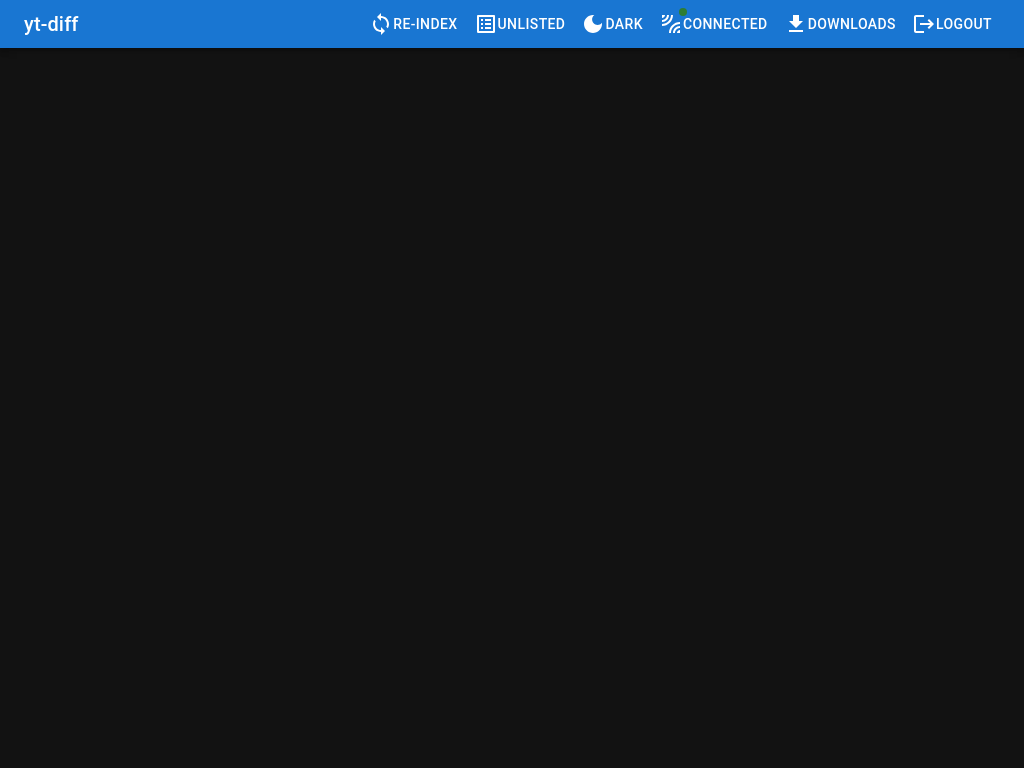
Scenario: Nav Component (Mobile) › filters notifications inside the drawer
Open drawer
Step 1. Click the button "Connected" → (713, 24), box [651,4,776,44]
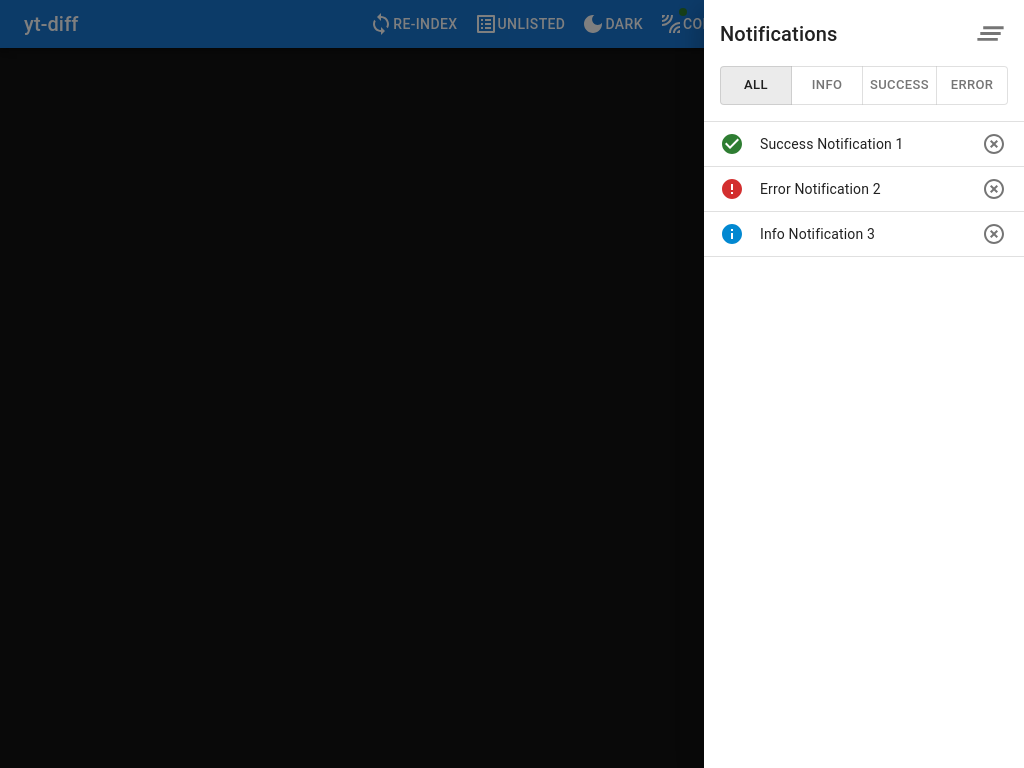
Click "Success" toggle filter
Step 2. Click the button "Success" → (900, 85), box [862,66,937,105]
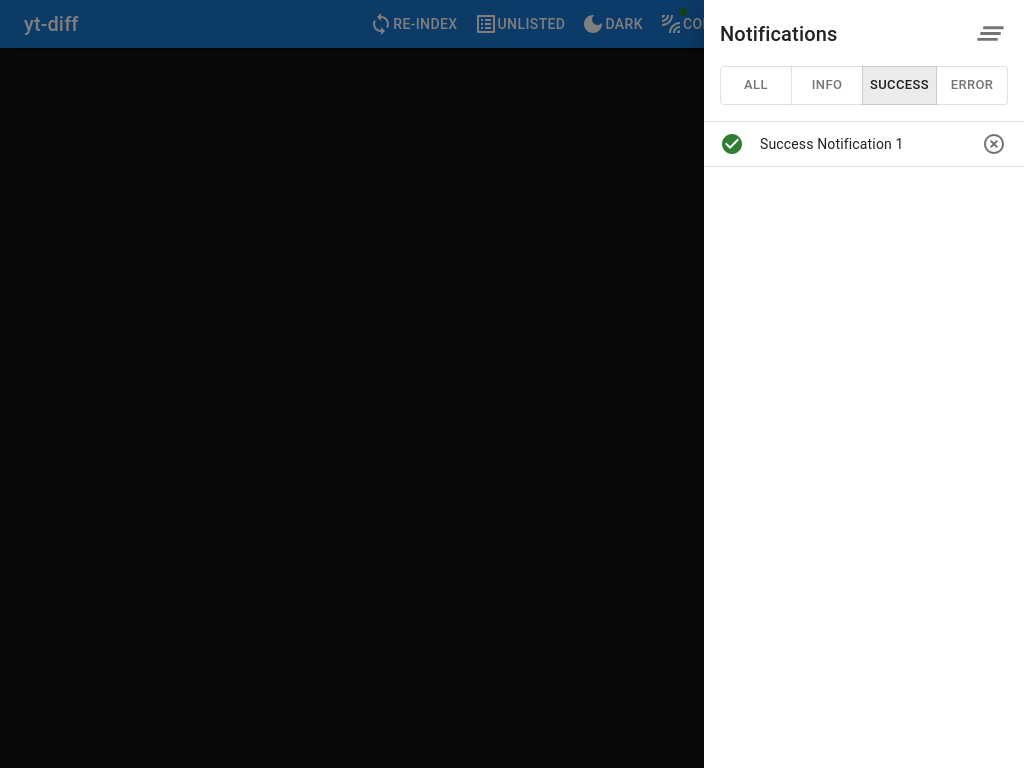
Now the text "Success Notification 1" is shown, box [760,136,904,152]
Now the text "Error Notification 2" is gone
Now the text "Info Notification 3" is gone
Click "Error" toggle filter
Step 3. Click the button "Error" → (972, 85), box [936,66,1008,105]
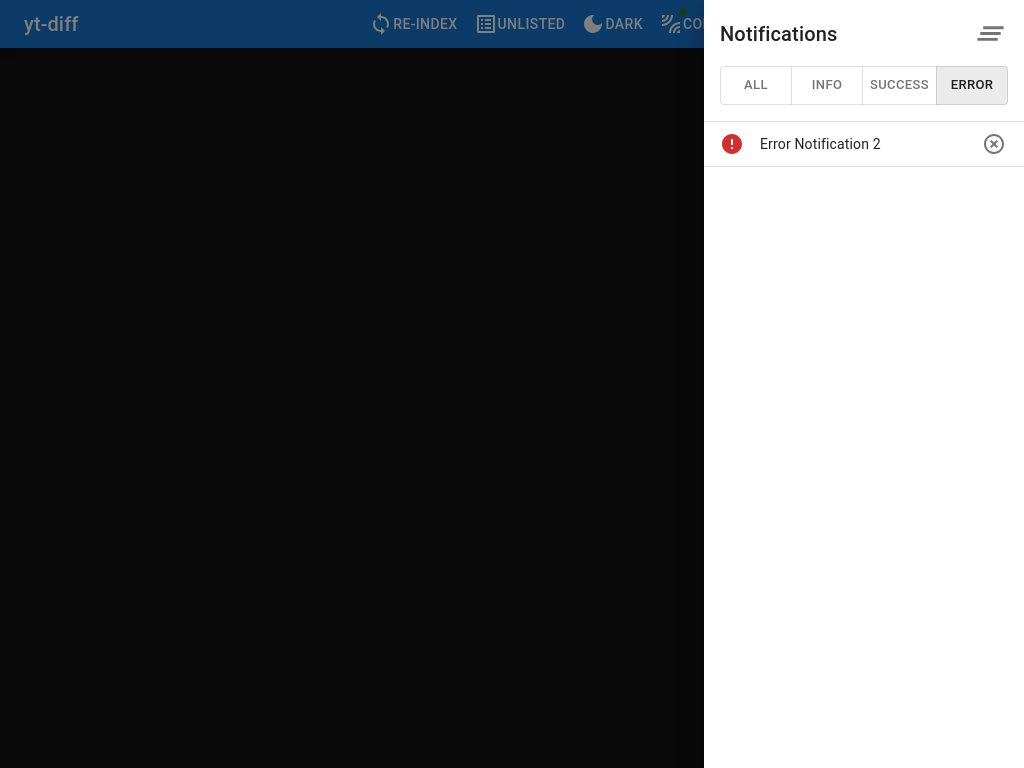
Expected: the text "Info Notification 3" is not shown
Now the text "Success Notification 1" is gone
Now the text "Error Notification 2" is shown, box [760,136,881,152]
